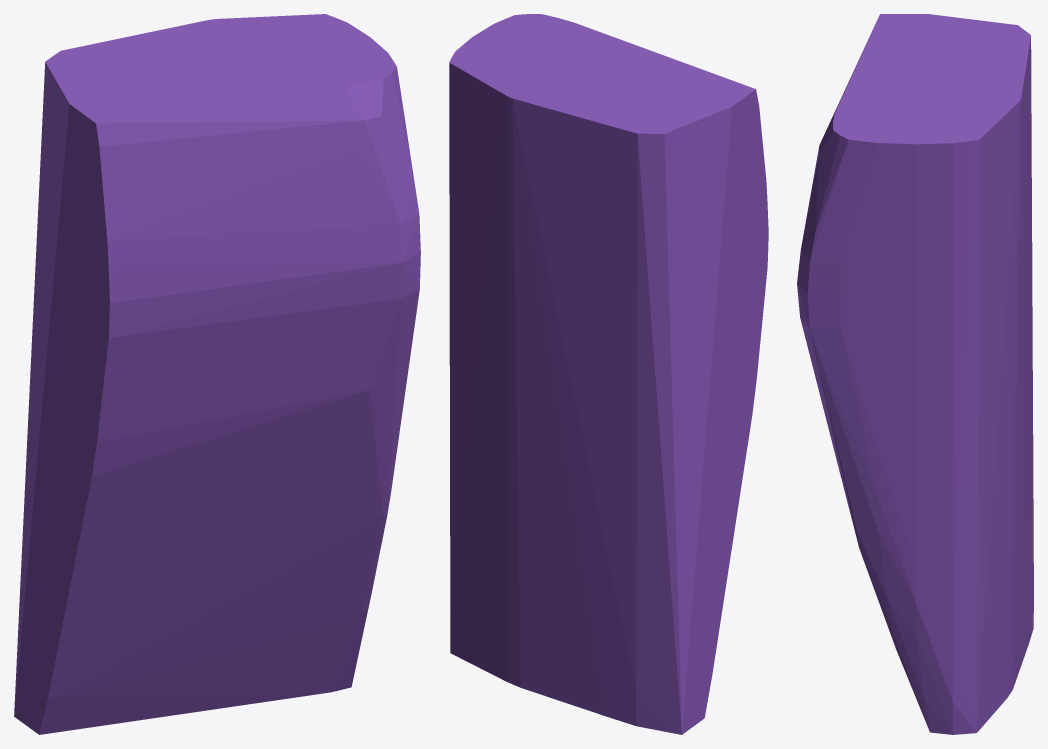
File: left-shoulder-pitch-0_part_46.obj
3 views of the same model, side by side, from view 1: azimuth 30°, elevation 25°; view 2: azimuth 150°, elevation 25°; view 3: azimuth 270°, elevation 25° (orthographic). The views are drawn at different scales.
Bounding box in the file's own units: 0.0141 × 0.03 × 0.0109.
